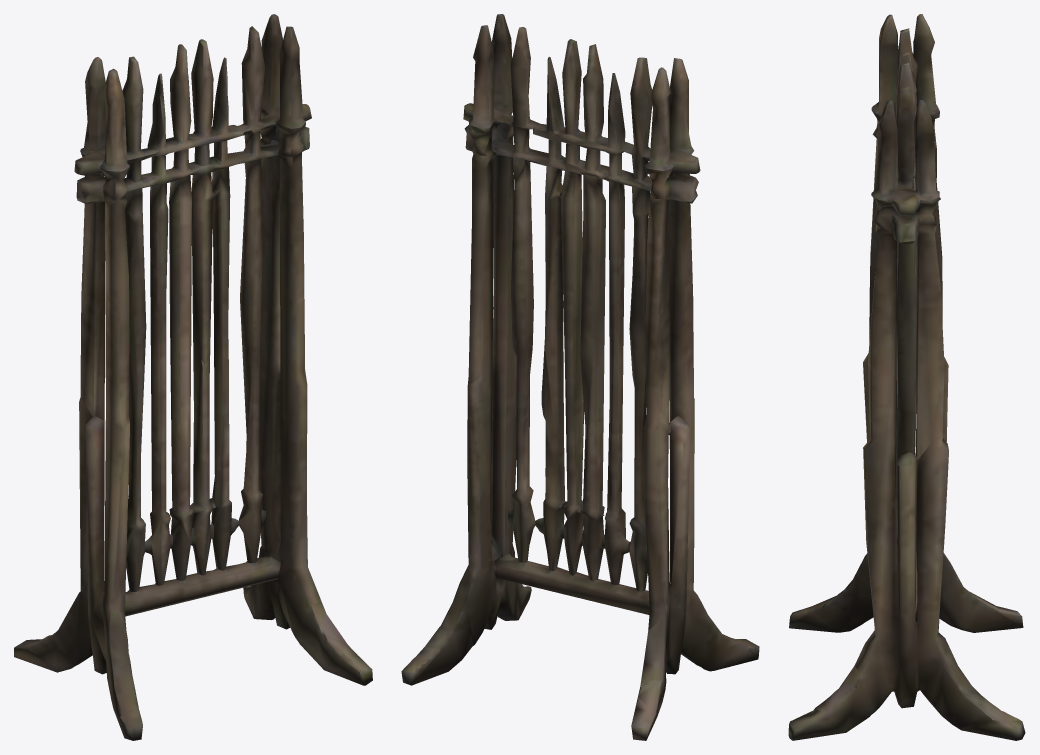
File: plain-wood-weapon-rack-v003.glb
3 renders of one model, left to right at view 1: azimuth 30°, elevation 25°; view 2: azimuth 150°, elevation 25°; view 3: azimuth 270°, elevation 25°, orthographic.
Visible parts, largest first — view 1: plain-wood-weapon-rack; view 2: plain-wood-weapon-rack; view 3: plain-wood-weapon-rack.
Boxes of the visible parts, x1=… form: plain-wood-weapon-rack: x1=14, y1=14, x2=372, y2=740; plain-wood-weapon-rack: x1=401, y1=14, x2=759, y2=740; plain-wood-weapon-rack: x1=788, y1=14, x2=1025, y2=740.
Size of the model in its own units: 0.7575 by 1.85 by 0.6335.
Materials: 1 (1 with a texture image).
